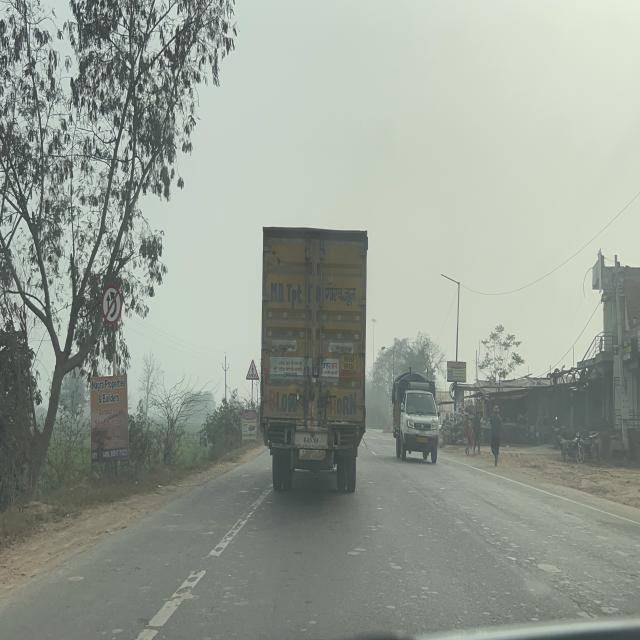OVERTAKING_PROHIBITED: (101, 284, 122, 325)
PEDESTRIAN_CROSSING: (246, 359, 259, 380)
